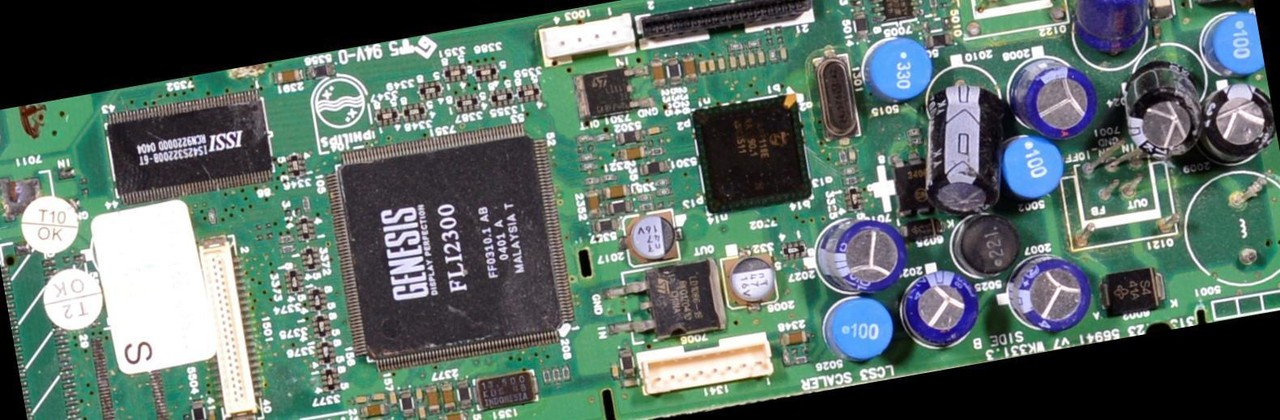Capacitor: (616, 144, 649, 162), (358, 402, 390, 420), (602, 182, 631, 200), (584, 191, 603, 218), (425, 384, 442, 414), (781, 328, 809, 345), (649, 62, 667, 88), (441, 382, 456, 411), (681, 58, 698, 82), (437, 410, 470, 419), (644, 124, 663, 136), (621, 376, 639, 388), (755, 49, 767, 66), (778, 45, 789, 62), (609, 362, 620, 379), (387, 390, 398, 406), (747, 50, 757, 67), (416, 404, 427, 419), (737, 52, 747, 68), (352, 396, 368, 406), (717, 56, 727, 71), (727, 54, 737, 69), (699, 59, 708, 75), (848, 147, 857, 163), (416, 386, 425, 402), (372, 392, 386, 402), (707, 57, 715, 73)
Connector: (197, 239, 258, 417), (635, 0, 817, 49), (640, 328, 770, 396), (540, 13, 638, 67)
IC: (322, 116, 578, 378), (104, 88, 278, 207), (689, 89, 815, 220), (863, 0, 926, 26)
Resistor: (745, 37, 763, 50), (277, 233, 296, 245), (278, 243, 297, 255), (727, 41, 745, 53), (767, 48, 779, 66), (655, 186, 673, 198), (905, 137, 924, 148), (840, 166, 859, 177), (577, 132, 594, 144), (207, 207, 218, 225), (842, 175, 860, 186), (647, 146, 666, 156), (595, 133, 612, 144), (579, 152, 597, 162), (599, 173, 617, 183), (654, 178, 672, 188), (838, 148, 848, 166), (583, 175, 599, 186), (906, 127, 922, 138), (638, 191, 654, 202), (638, 202, 655, 212), (301, 196, 311, 212), (581, 163, 596, 173)
Transistor/Diode: (599, 256, 732, 351)
